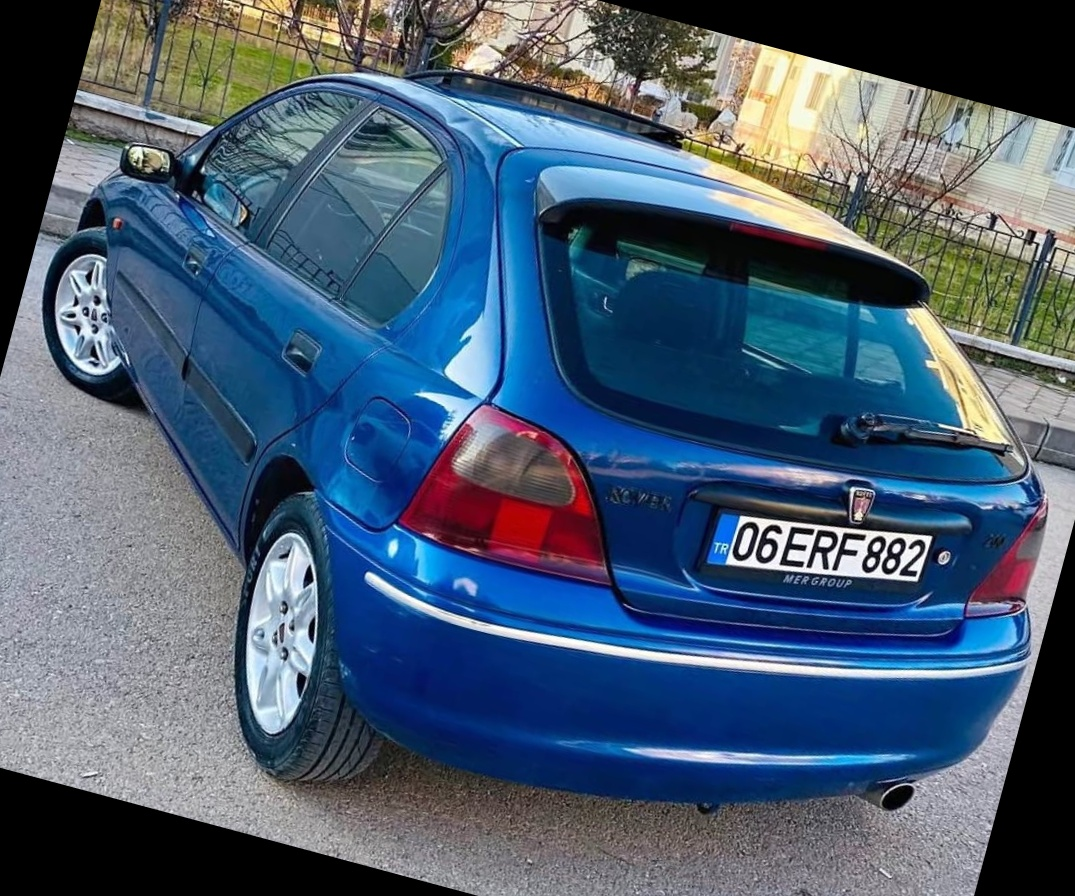plaka: (733, 495, 935, 581)
